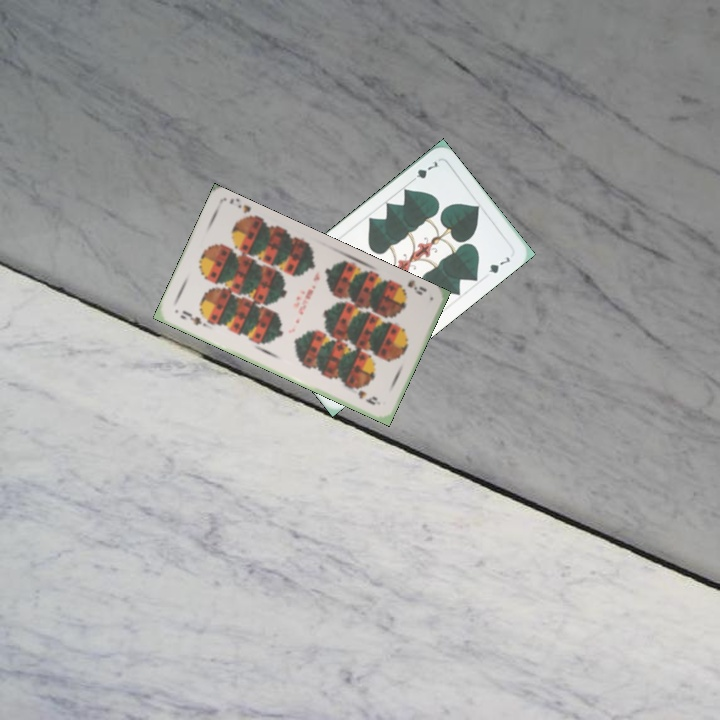G7: (406, 155, 441, 186)
S9: (392, 277, 429, 298), (176, 306, 204, 328)
